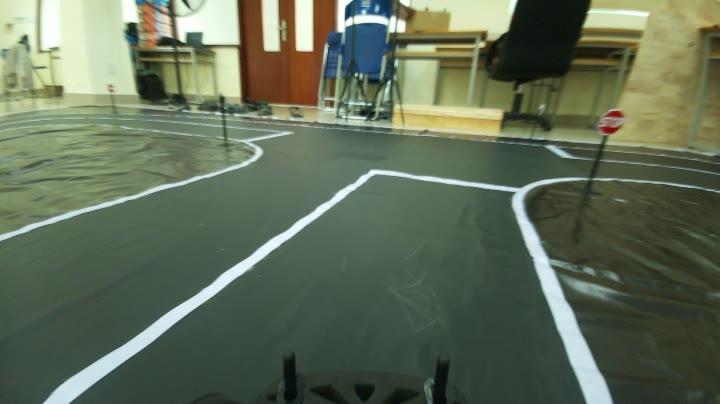stop: (593, 105, 629, 141)
